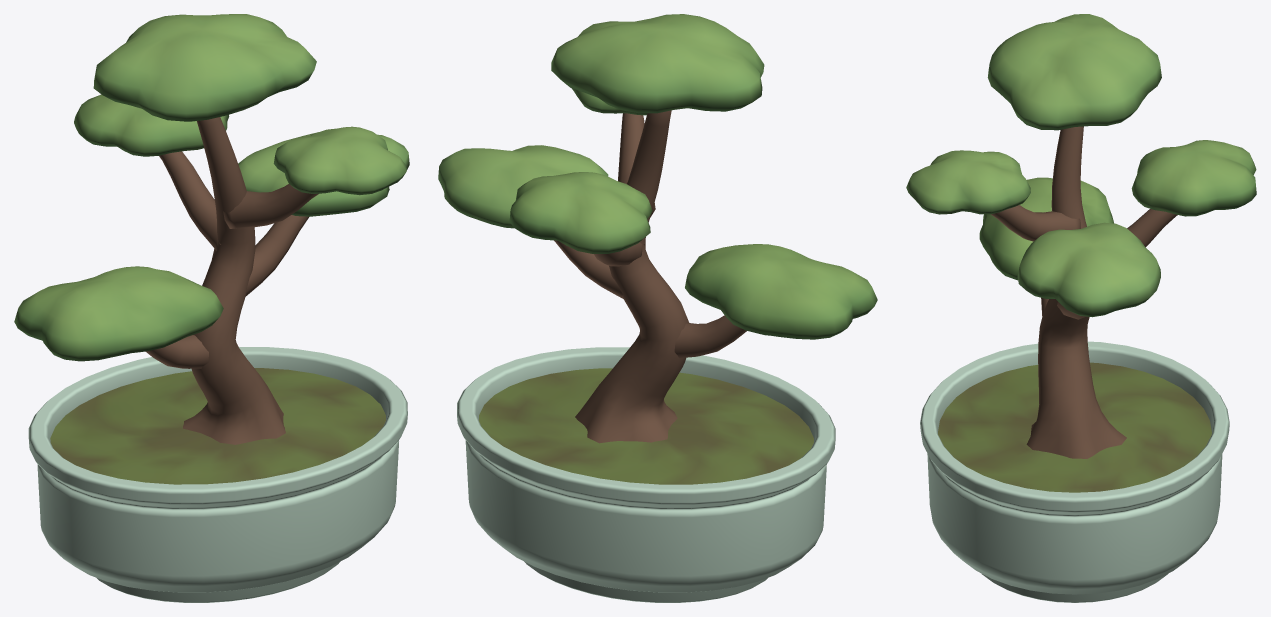
File: bonsai.glb
3 views of the same model, side by side, from view 1: azimuth 30°, elevation 25°; view 2: azimuth 150°, elevation 25°; view 3: azimuth 270°, elevation 25° (orthographic). The views are drawn at different scales.
Visible parts, largest first — view 1: BonsaiMesh; view 2: BonsaiMesh; view 3: BonsaiMesh.
Part boxes in pixels (<box>): BonsaiMesh: <box>14,14,409,602</box>; BonsaiMesh: <box>438,14,877,602</box>; BonsaiMesh: <box>906,14,1256,602</box>.
Size of the model in its own units: 0.7552 by 0.9631 by 0.6059.
